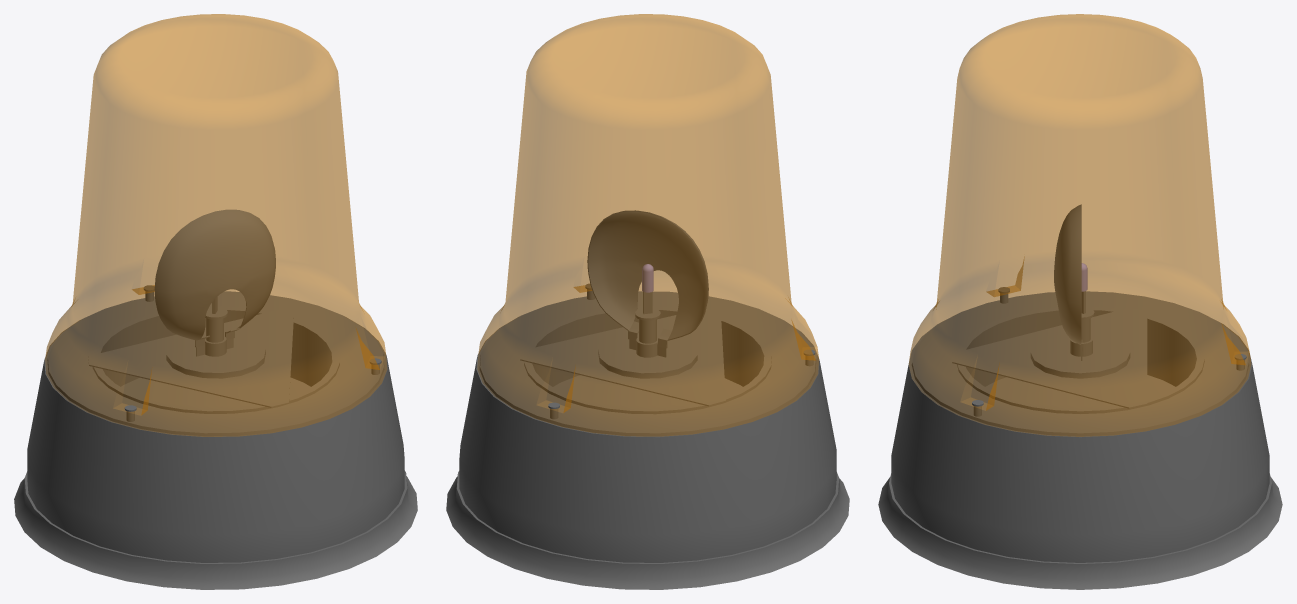
File: flasher-lp-triangulate.fbx
3 views of the same model, side by side, from view 1: azimuth 30°, elevation 25°; view 2: azimuth 150°, elevation 25°; view 3: azimuth 270°, elevation 25° (orthographic).
Visible parts, largest first — view 1: flasher_8_low, flasher_1_low, flasher_4_low, flasher_2_low, flasher_3_low, flasher_5_low; view 2: flasher_8_low, flasher_1_low, flasher_4_low, flasher_2_low, flasher_3_low, flasher_5_low; view 3: flasher_8_low, flasher_1_low, flasher_2_low, flasher_3_low, flasher_4_low.
Part boxes in pixels (x1,y1,x2,y2): flasher_8_low: (45, 14, 386, 436); flasher_1_low: (14, 291, 417, 589); flasher_4_low: (154, 209, 275, 340); flasher_2_low: (88, 310, 293, 407); flasher_3_low: (166, 331, 265, 378); flasher_5_low: (205, 307, 227, 342); flasher_8_low: (477, 14, 818, 436); flasher_1_low: (446, 291, 849, 589); flasher_4_low: (587, 210, 708, 340); flasher_2_low: (520, 309, 725, 406); flasher_3_low: (598, 332, 697, 378); flasher_5_low: (635, 308, 660, 343); flasher_8_low: (908, 14, 1250, 436); flasher_1_low: (878, 291, 1282, 589); flasher_2_low: (952, 307, 1147, 408); flasher_3_low: (1030, 332, 1130, 378); flasher_4_low: (1054, 204, 1081, 344).
Size of what is drawn, in the model's own units: 3.5 by 4.27 by 3.5.
